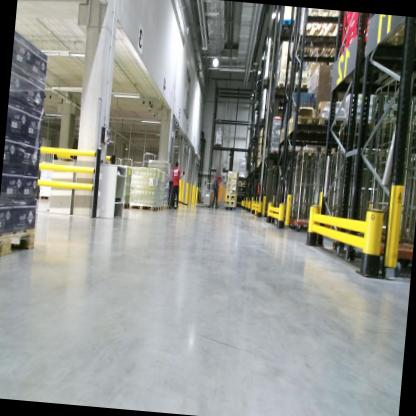forklift: (213, 142, 238, 212)
pallet: (375, 16, 416, 61), (299, 8, 331, 54), (0, 228, 37, 262), (287, 113, 324, 142), (316, 114, 346, 145), (276, 17, 299, 46), (273, 80, 293, 101), (291, 78, 311, 97), (131, 203, 159, 213), (300, 148, 320, 160), (288, 148, 303, 160), (120, 203, 129, 212), (163, 203, 170, 212), (157, 205, 164, 213)
